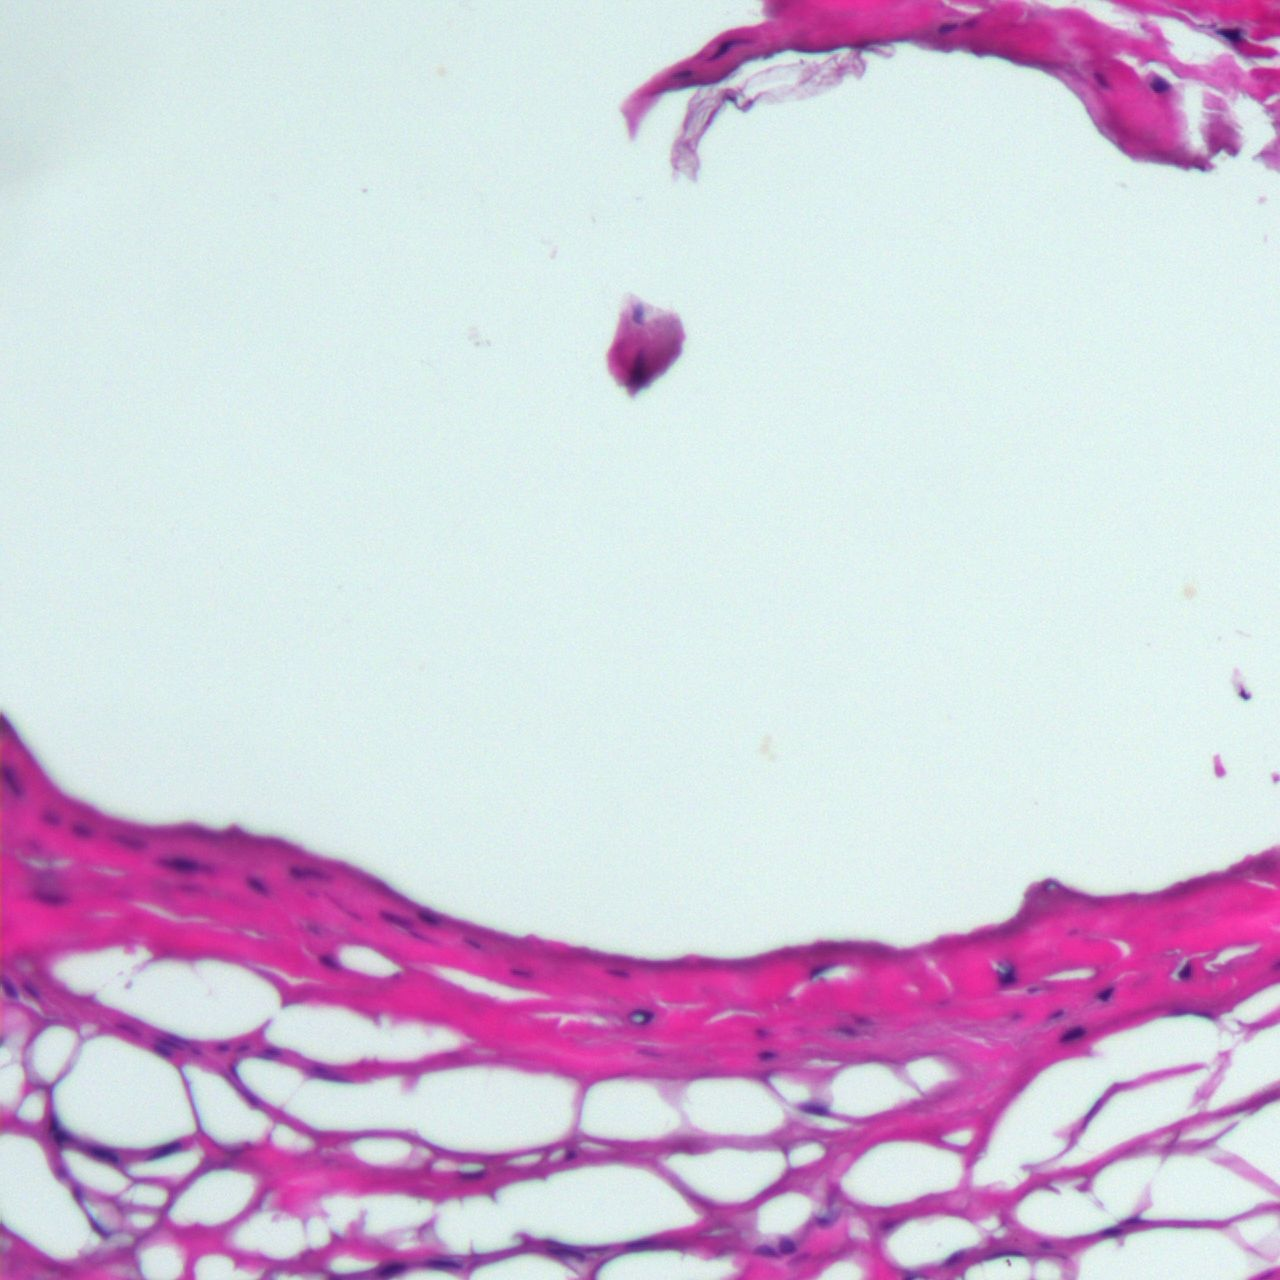dust: (757, 731, 776, 760), (1183, 584, 1198, 600), (436, 64, 447, 77)
nucleus-HE: (111, 828, 149, 856), (147, 1139, 184, 1160), (1057, 1021, 1087, 1047), (414, 906, 443, 930), (166, 855, 200, 874), (67, 819, 94, 843), (246, 874, 271, 899), (1176, 959, 1198, 981), (1095, 983, 1117, 1005), (427, 1257, 459, 1268), (1213, 26, 1242, 39), (1150, 76, 1169, 95), (999, 967, 1017, 985), (607, 966, 631, 980), (938, 20, 956, 34), (754, 1245, 776, 1257), (779, 1239, 795, 1254), (757, 1050, 774, 1060)
